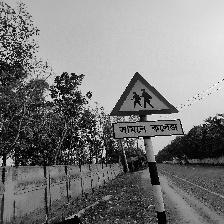College-in-front: (107, 64, 208, 164)
